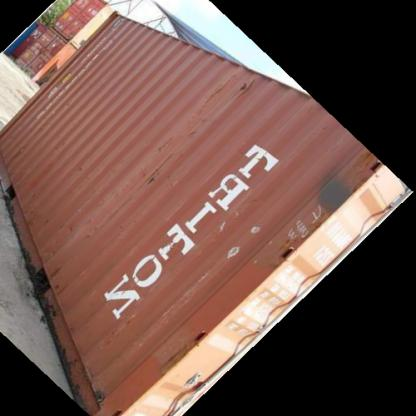Damage: (23, 235, 66, 310), (280, 183, 326, 251), (217, 202, 260, 261), (143, 128, 177, 196), (200, 68, 257, 105)
